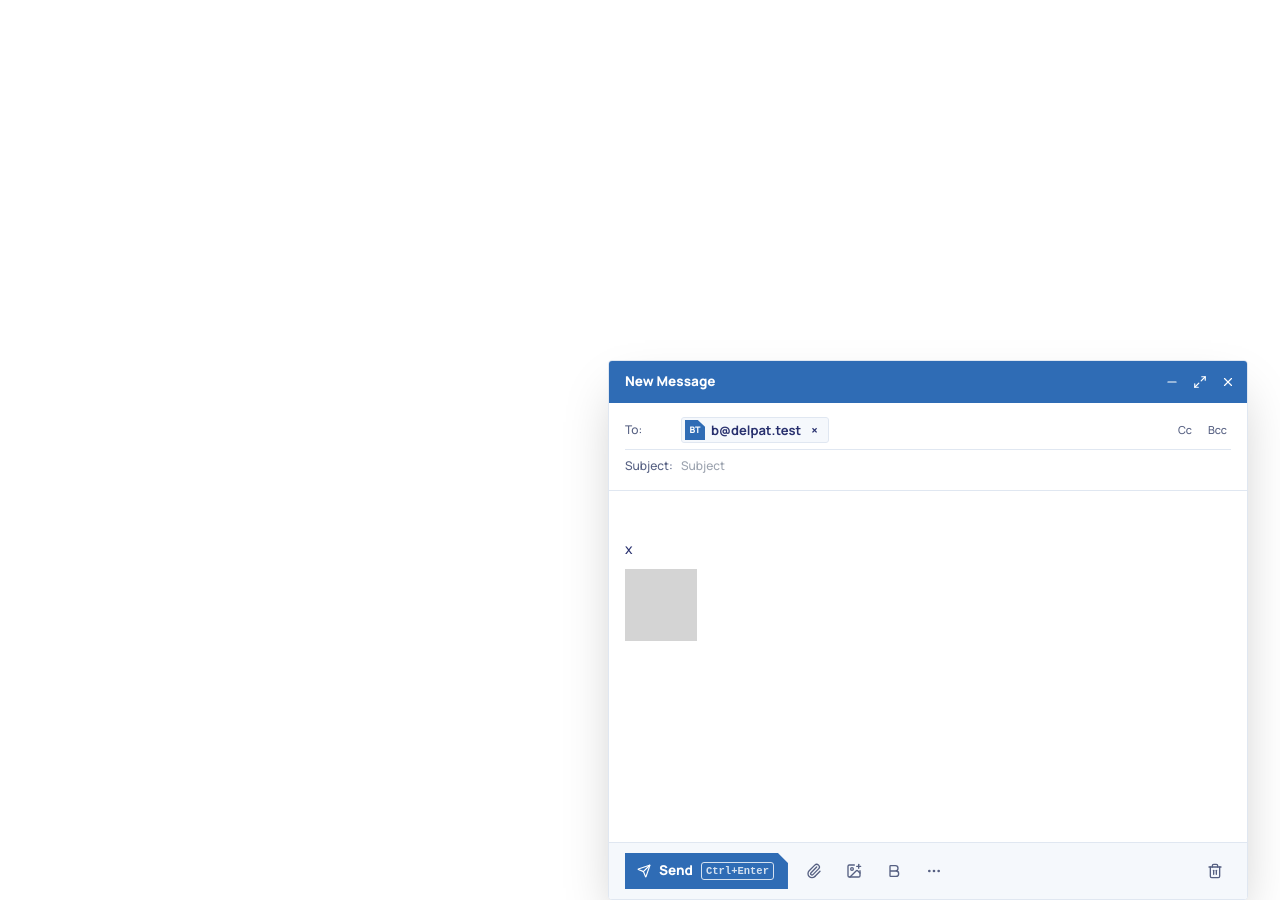
Test case: composer with the rich editor › refuses to send when pictures and attachments exceed the limit
Click the button "Send Ctrl+Enter" at (706, 871), box [625,853,788,889]
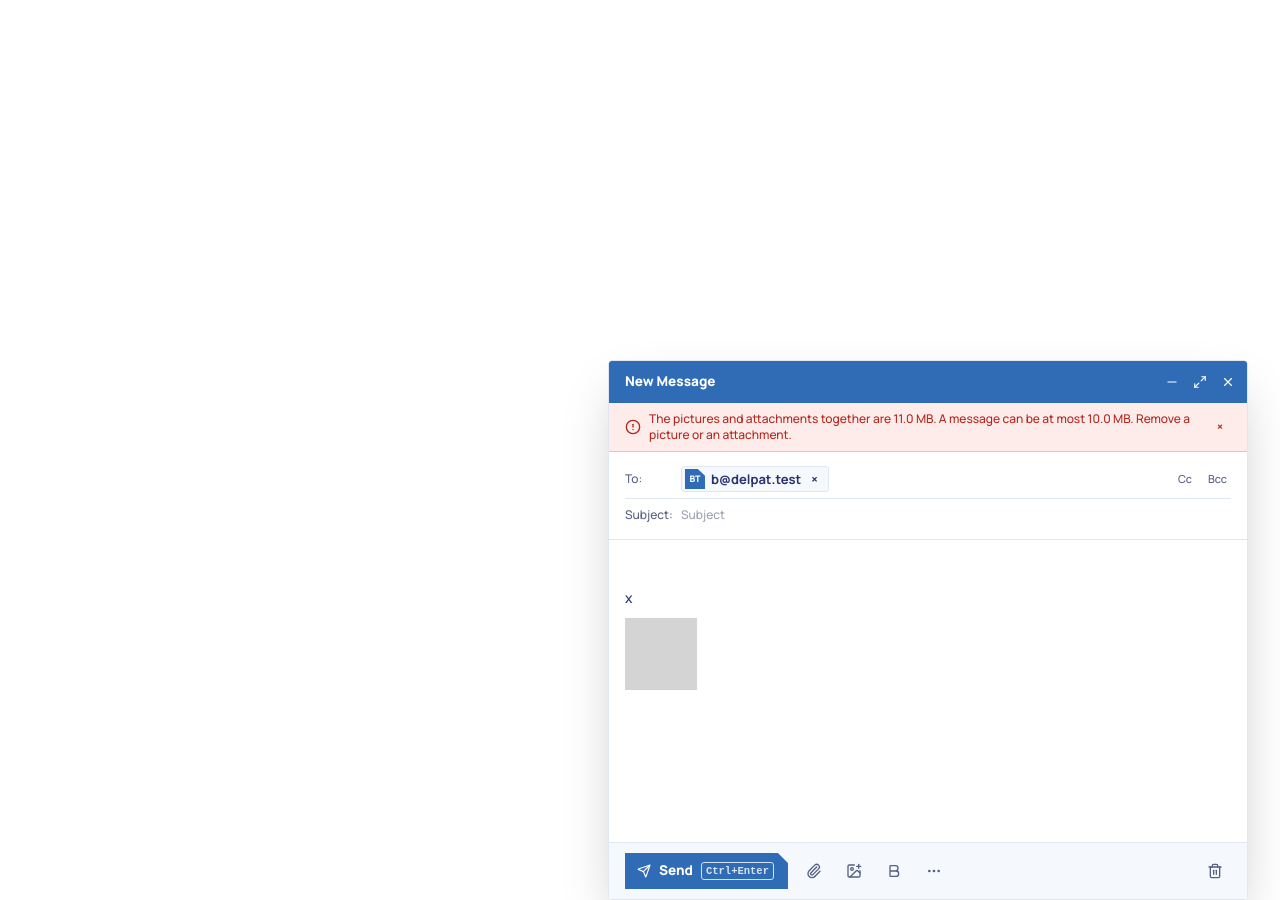
Now the 1st message shows "pictures and attachments together", box [649,410,1190,443]
